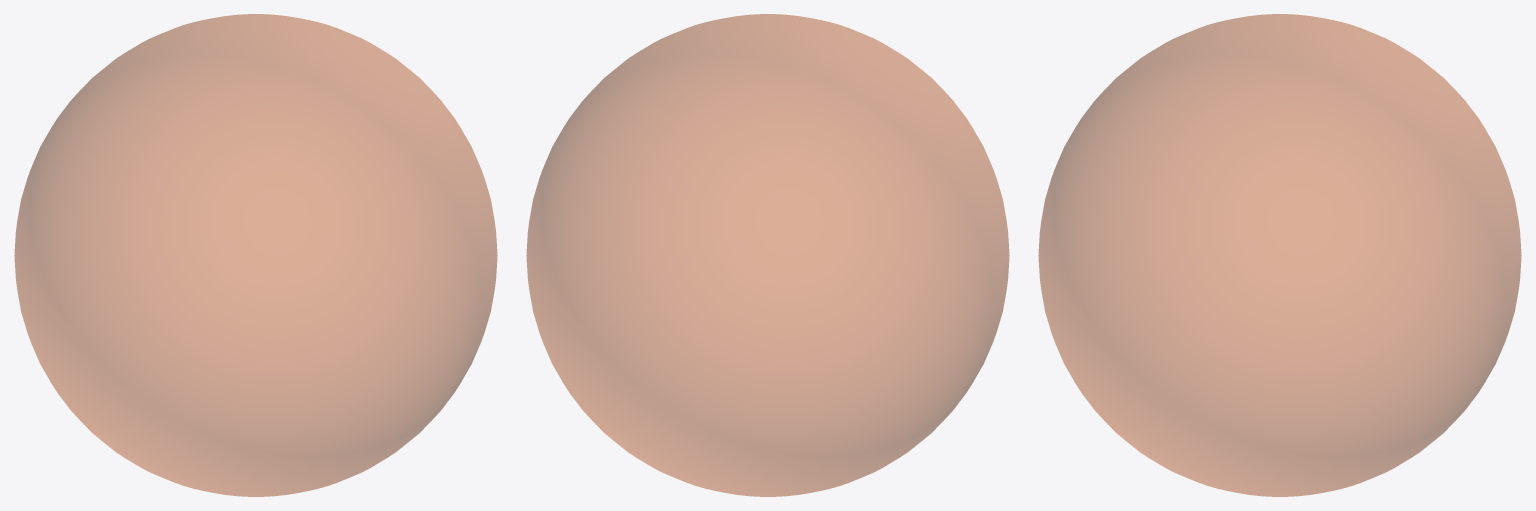
The model's file is DBSphere.glb.
3 views of the same model, side by side, from view 1: azimuth 30°, elevation 25°; view 2: azimuth 150°, elevation 25°; view 3: azimuth 270°, elevation 25° (orthographic).
Visible parts, largest first — view 1: DBSphere; view 2: DBSphere; view 3: DBSphere.
Boxes of the visible parts, x1,y1,x2,y2 form: DBSphere: [14, 14, 497, 496]; DBSphere: [526, 14, 1009, 496]; DBSphere: [1038, 14, 1521, 496].
Bounding box in the file's own units: 2 × 2 × 2.
